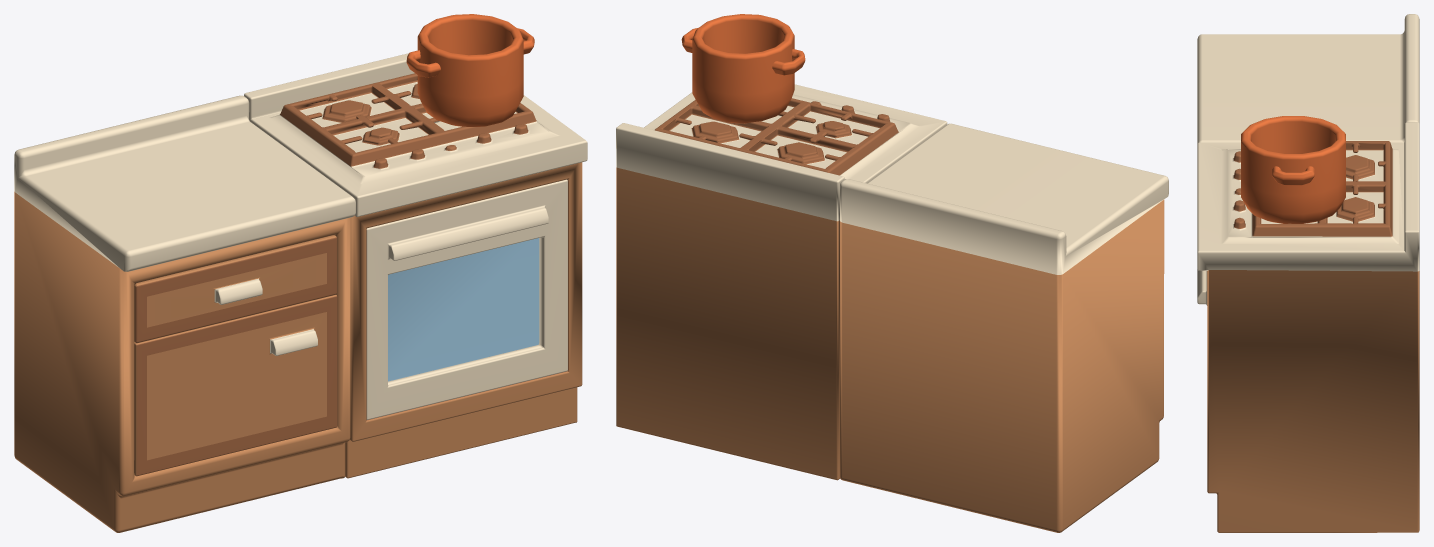
Rendered from interest_food_v3_8_draco_webp.glb.
3 views of the same model, side by side, from view 1: azimuth 30°, elevation 25°; view 2: azimuth 150°, elevation 25°; view 3: azimuth 270°, elevation 25° (orthographic). The views are drawn at different scales.
Visible parts, largest first — view 1: kitchen_counter_cabinet, kitchen_counter_stove, kitchen_counter_oven_door, kitchen_counter_cabinet_door, kitchen_counter_drawer, cooking_pot_body; view 2: kitchen_counter_cabinet, kitchen_counter_stove, cooking_pot_body; view 3: kitchen_counter_stove, kitchen_counter_cabinet, cooking_pot_body, kitchen_counter_oven_door.
Boxes of the visible parts, x1,y1,x2,y2 form: kitchen_counter_cabinet: (14,95,355,532); kitchen_counter_stove: (244,53,587,478); kitchen_counter_oven_door: (366,179,567,419); kitchen_counter_cabinet_door: (134,295,337,476); kitchen_counter_drawer: (134,235,336,343); cooking_pot_body: (406,14,534,126); kitchen_counter_cabinet: (840,123,1168,532); kitchen_counter_stove: (616,84,947,480); cooking_pot_body: (681,14,805,123); kitchen_counter_stove: (1197,122,1419,532); kitchen_counter_cabinet: (1197,14,1419,143); cooking_pot_body: (1241,116,1345,223); kitchen_counter_oven_door: (1197,269,1207,305).
Size of the model in its own units: 1.25 by 0.9703 by 0.534.
